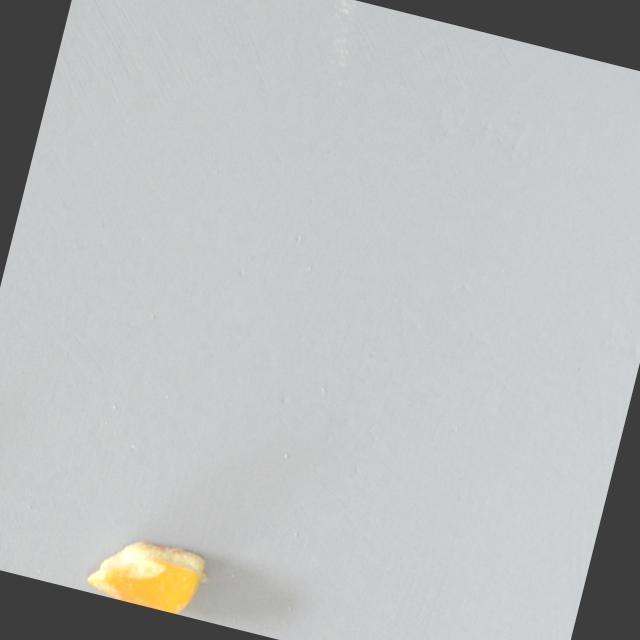dañado: (79, 519, 218, 620)
